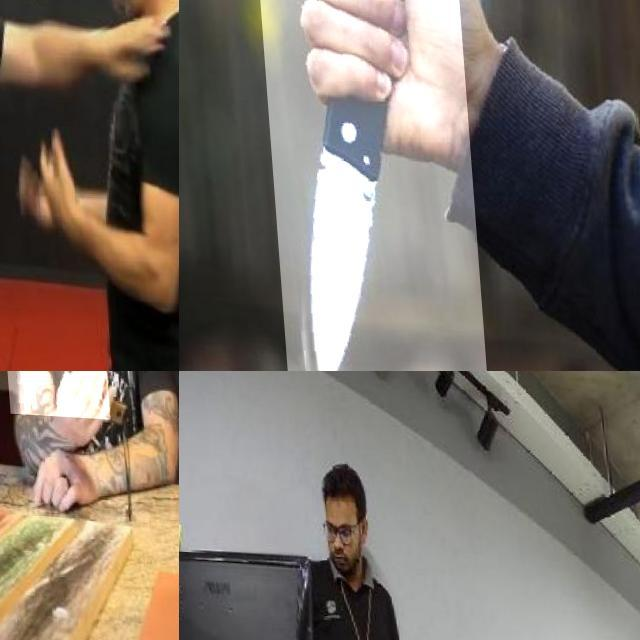-: (247, 0, 480, 371), (0, 371, 104, 442), (0, 264, 53, 327)
